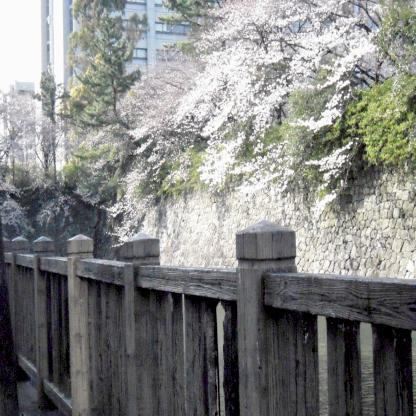Someiyoshino: (83, 1, 375, 238), (1, 89, 70, 227)
